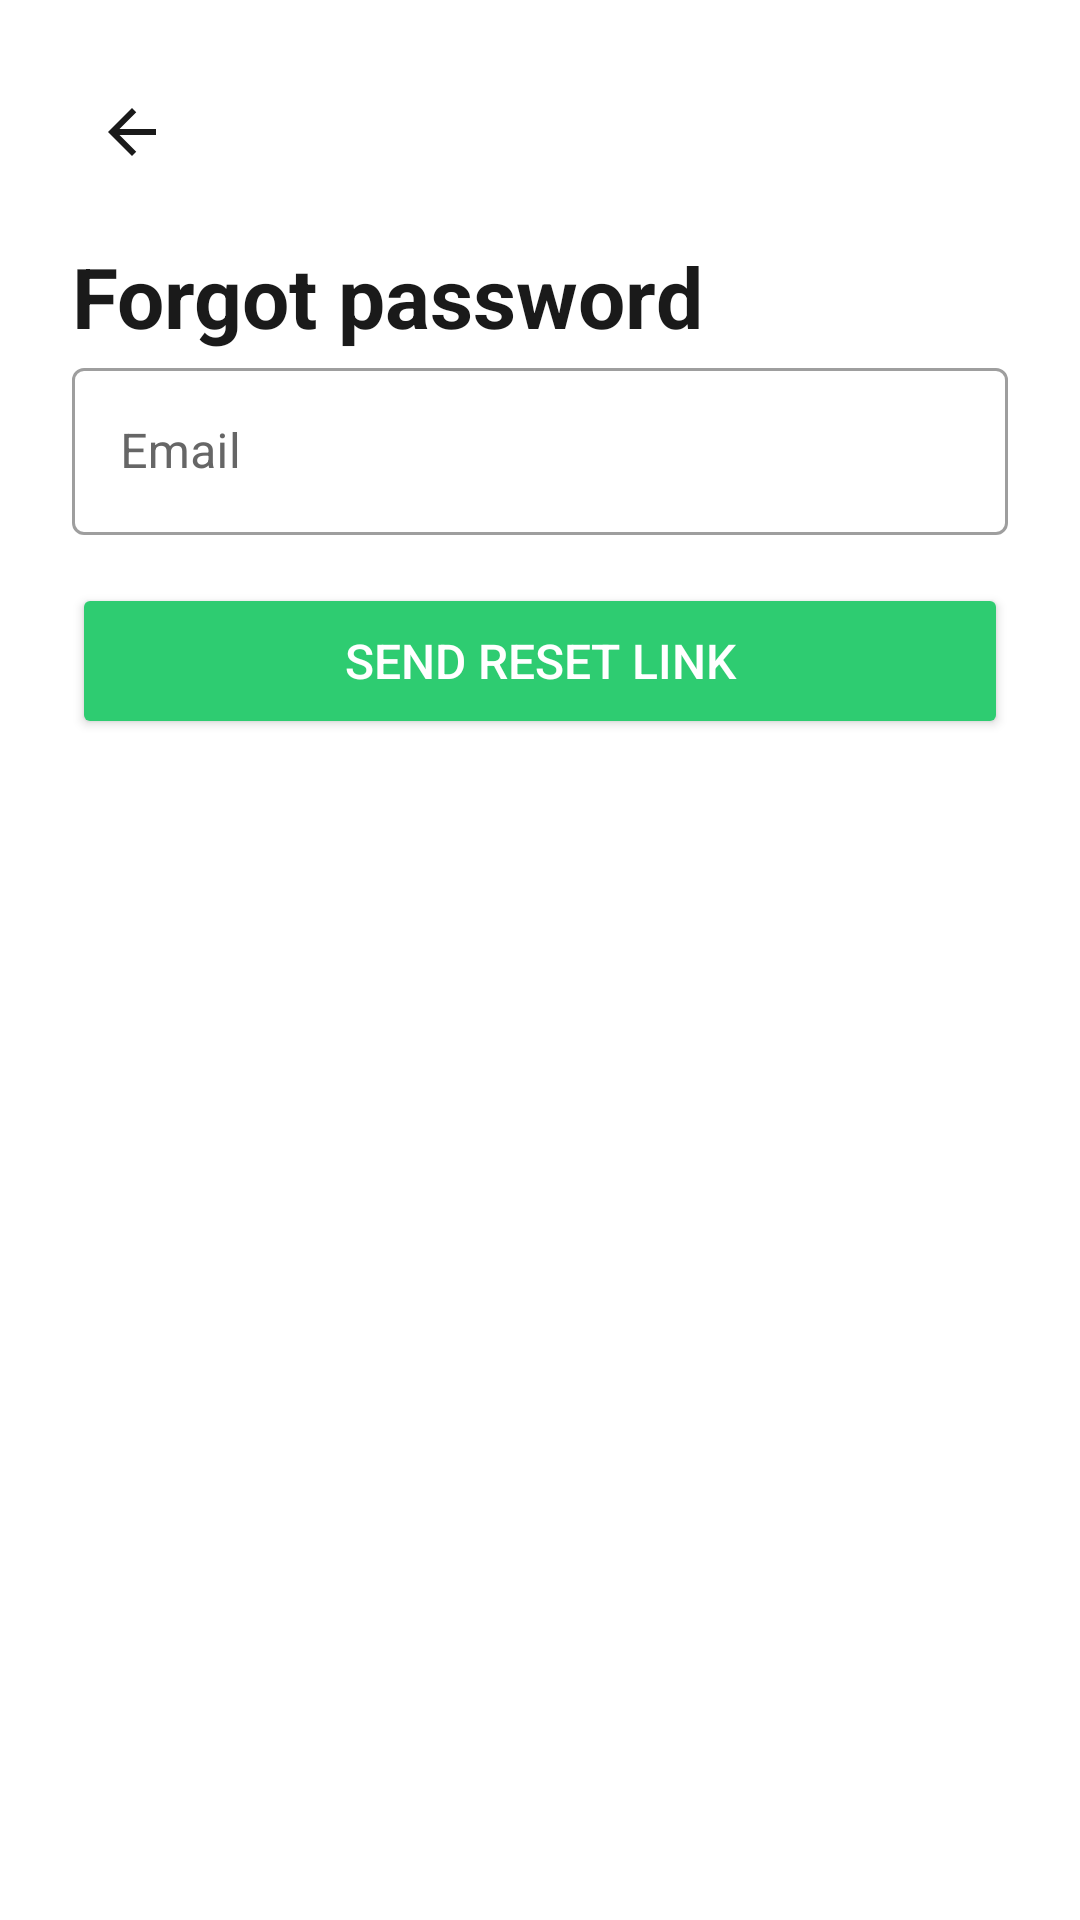

Point at icon controls on the screen. Image size 1080x1920, points as point (x, y).
back: point (132, 132)
